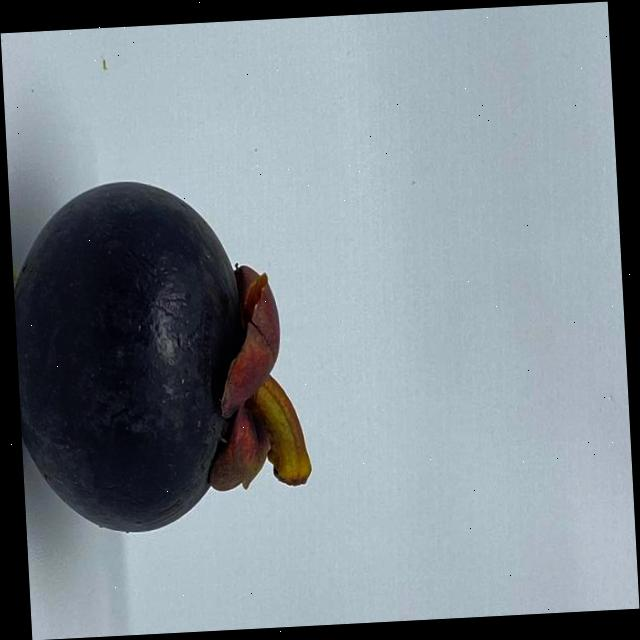mangosteen: (8, 158, 335, 538)
